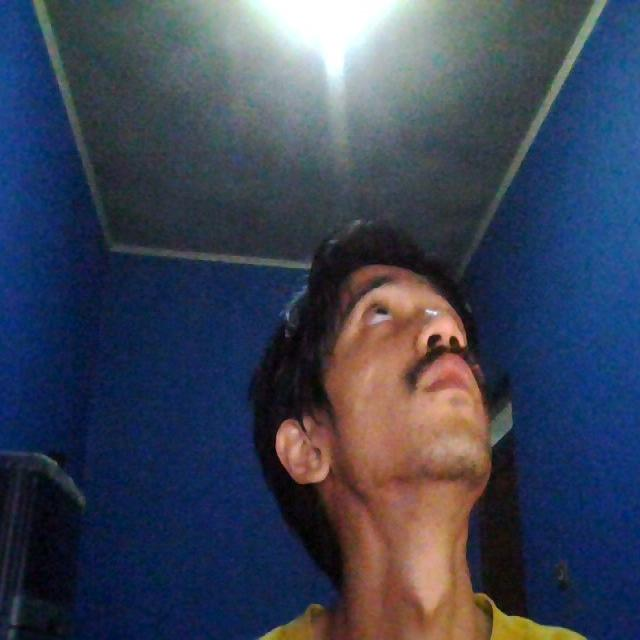Melihat keatas: (214, 252, 530, 535)
